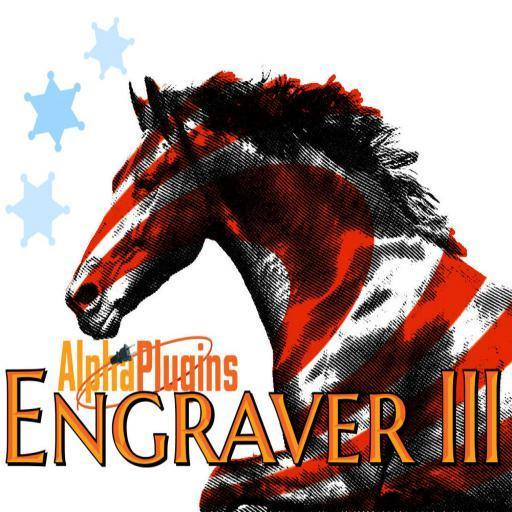horse: (66, 68, 512, 512)
